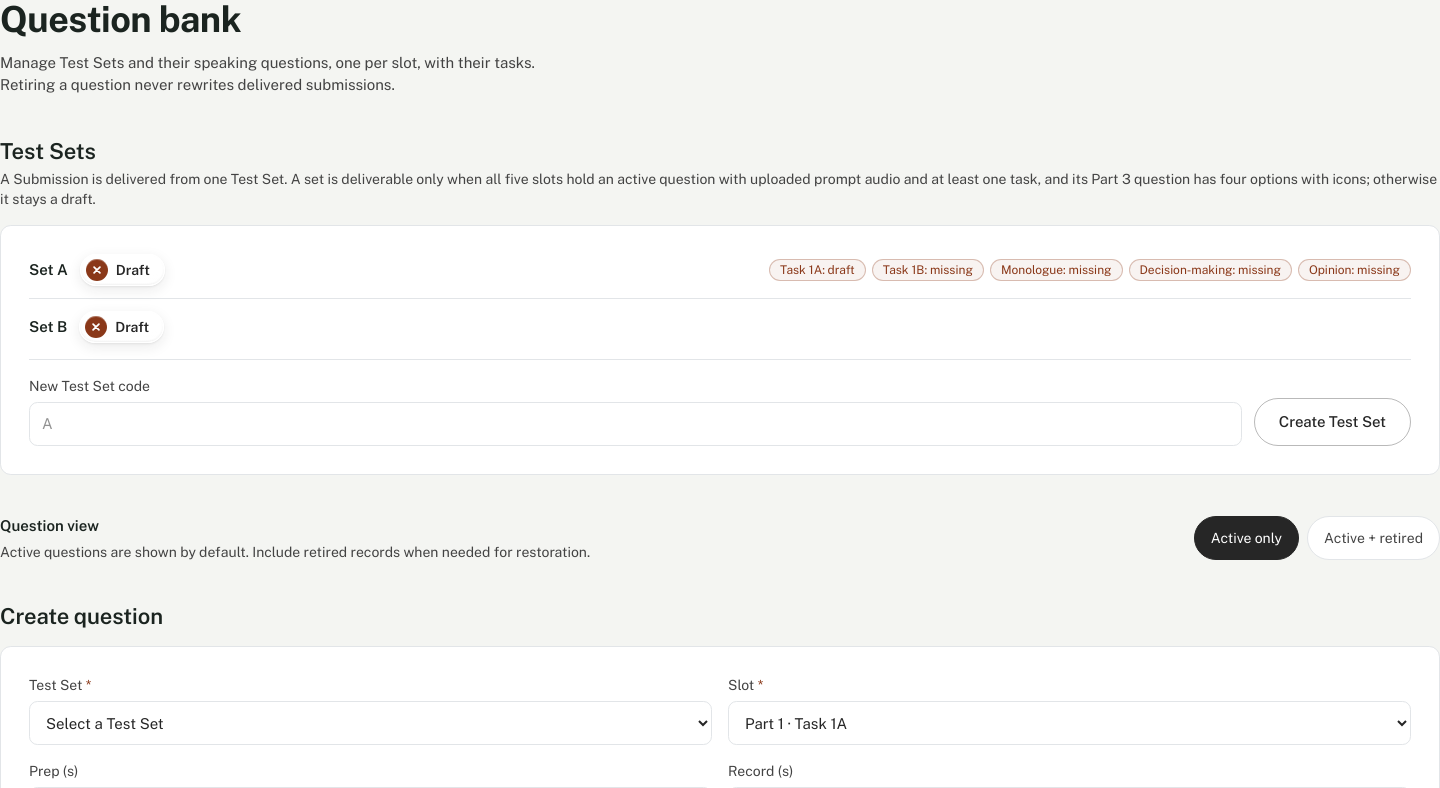
Scenario: AdminQuestionsPage edit mode › keeps a retired Question visible and shows the backend conflict message
Click the button "Active + retired" at (1374, 538), box [1307,516,1439,560]
(page scrolled)
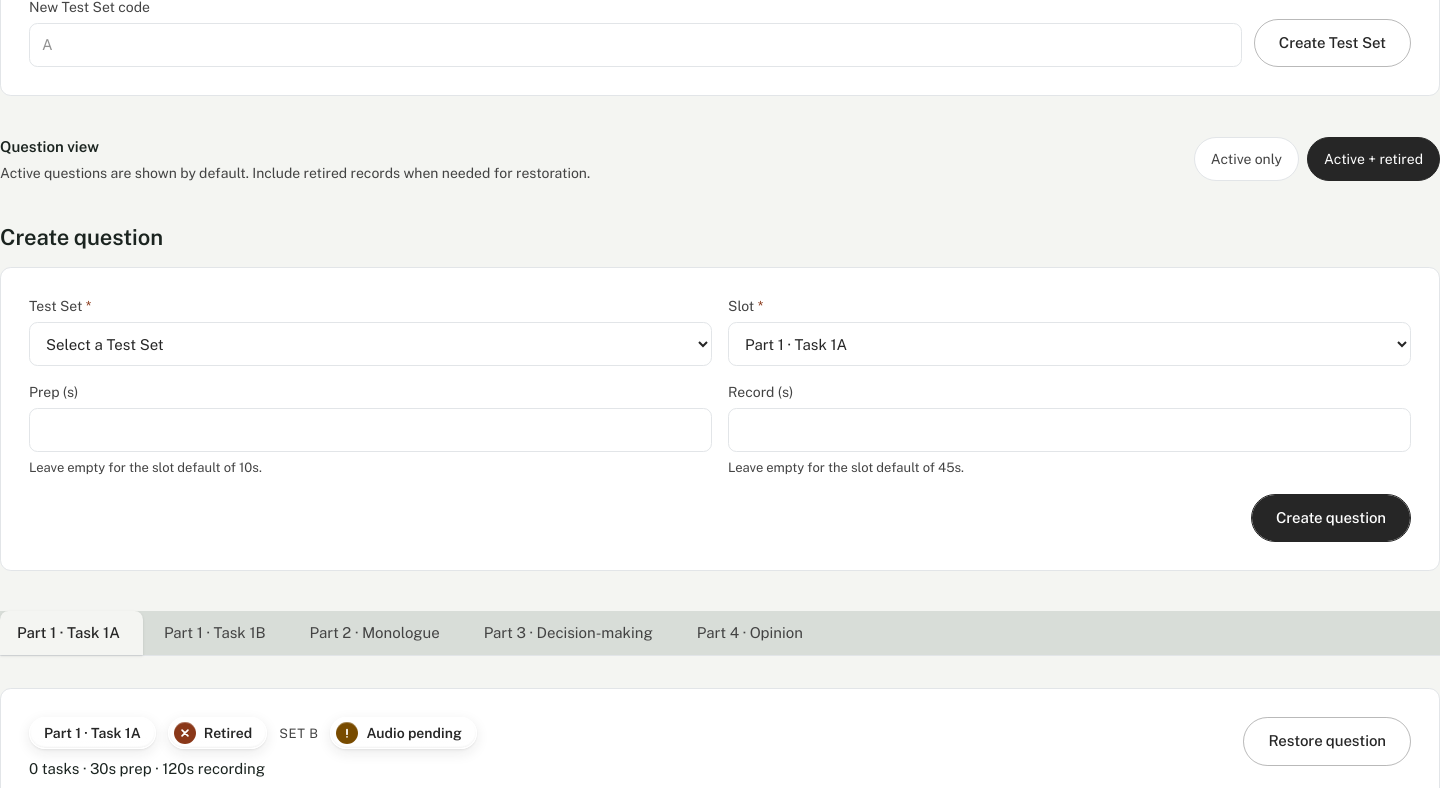
Click the button "Restore question" at (1327, 742), box [1244,717,1411,766]
(page scrolled)
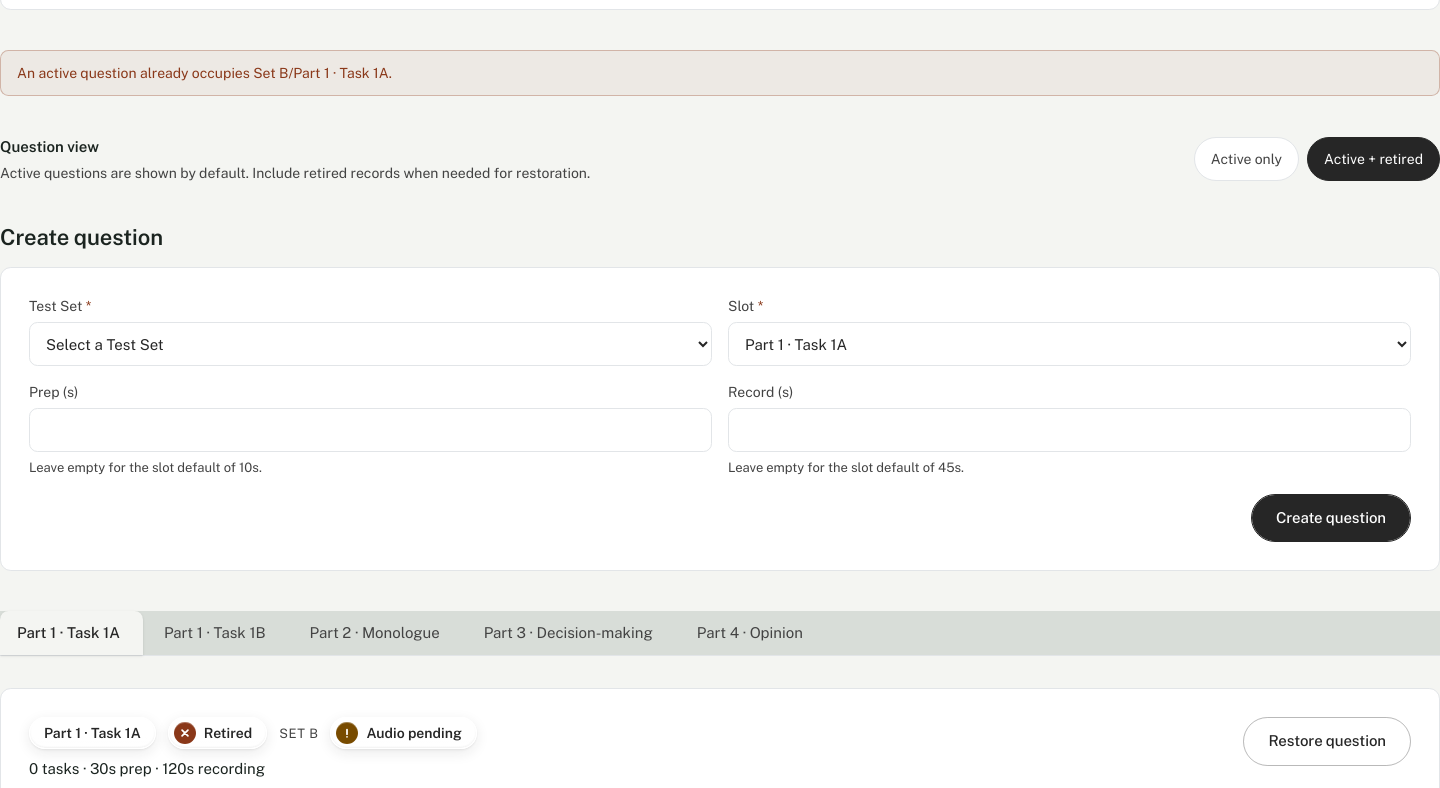
Expected: the element named "Question retired" is shown, [168,717,267,749]
Expected: the text "An active question already occupies Set B/Part 1 · Task 1A." is shown, [0,50,1439,96]
